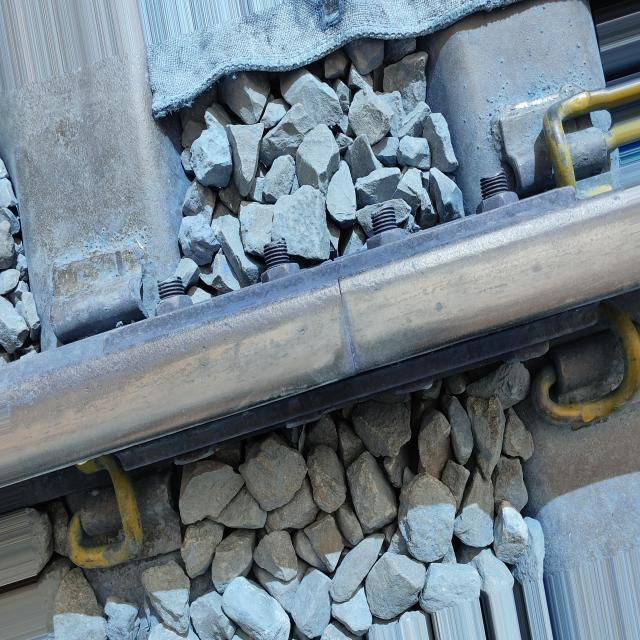Good Fasteners: (39, 432, 218, 603), (504, 299, 640, 460), (492, 65, 622, 196)
Good Joint: (40, 128, 640, 534)
Missing Fastener: (25, 214, 184, 356)
